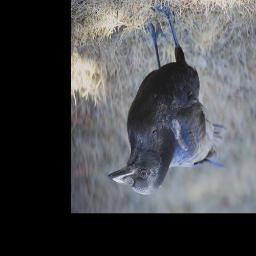Crow: (108, 3, 228, 196)
